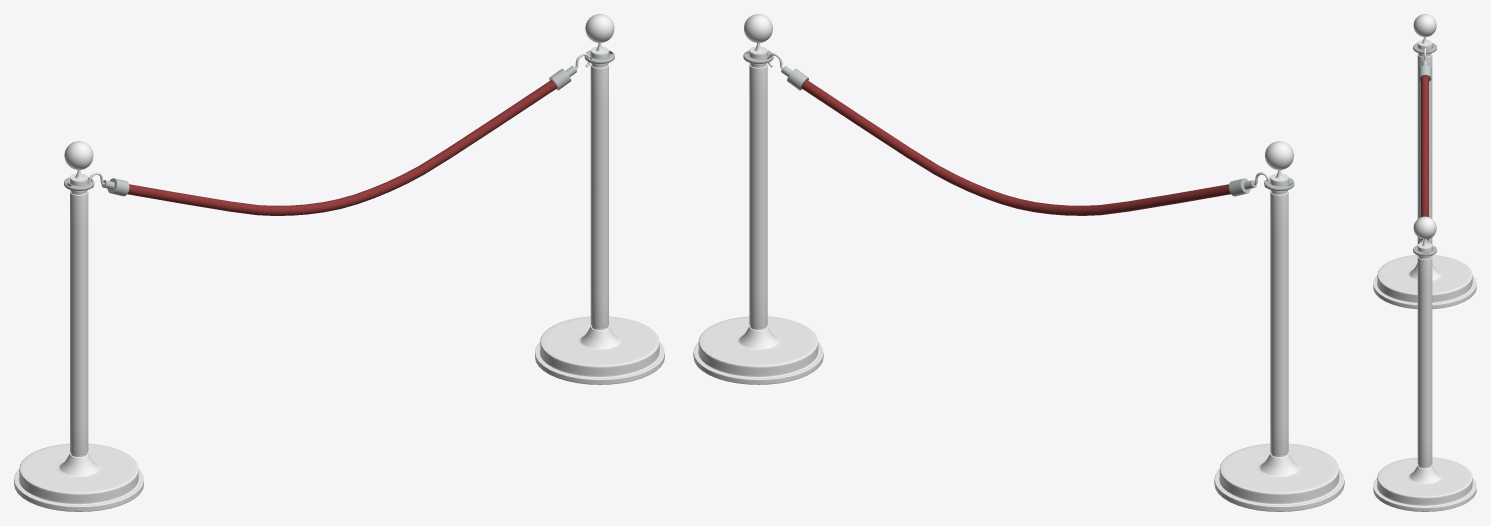
File: vip_rope_barrier.glb
3 renders of one model, left to right at view 1: azimuth 30°, elevation 25°; view 2: azimuth 150°, elevation 25°; view 3: azimuth 270°, elevation 25°, orthographic. The views are drawn at different scales.
Visible parts, largest first — view 1: Cylinder006, Line003, Sphere004, Cylinder007; view 2: Cylinder006, Line003, Sphere004, Cylinder007; view 3: Cylinder006, Line003, Sphere004, Tube004, Cylinder007.
Part boxes in pixels (x1,y1,x2,y2): Cylinder006: [14, 43, 664, 511]; Line003: [127, 80, 557, 215]; Sphere004: [64, 14, 614, 170]; Cylinder007: [101, 65, 576, 196]; Cylinder006: [693, 43, 1344, 511]; Line003: [801, 80, 1230, 215]; Sphere004: [744, 14, 1293, 170]; Cylinder007: [781, 66, 1256, 196]; Cylinder006: [1373, 37, 1476, 511]; Line003: [1421, 76, 1428, 240]; Sphere004: [1413, 14, 1436, 239]; Tube004: [1413, 43, 1437, 256]; Cylinder007: [1419, 60, 1431, 243].
Size of the model in its own units: 276 by 142 by 49.1.
Materials: 3 (3 with a texture image).
